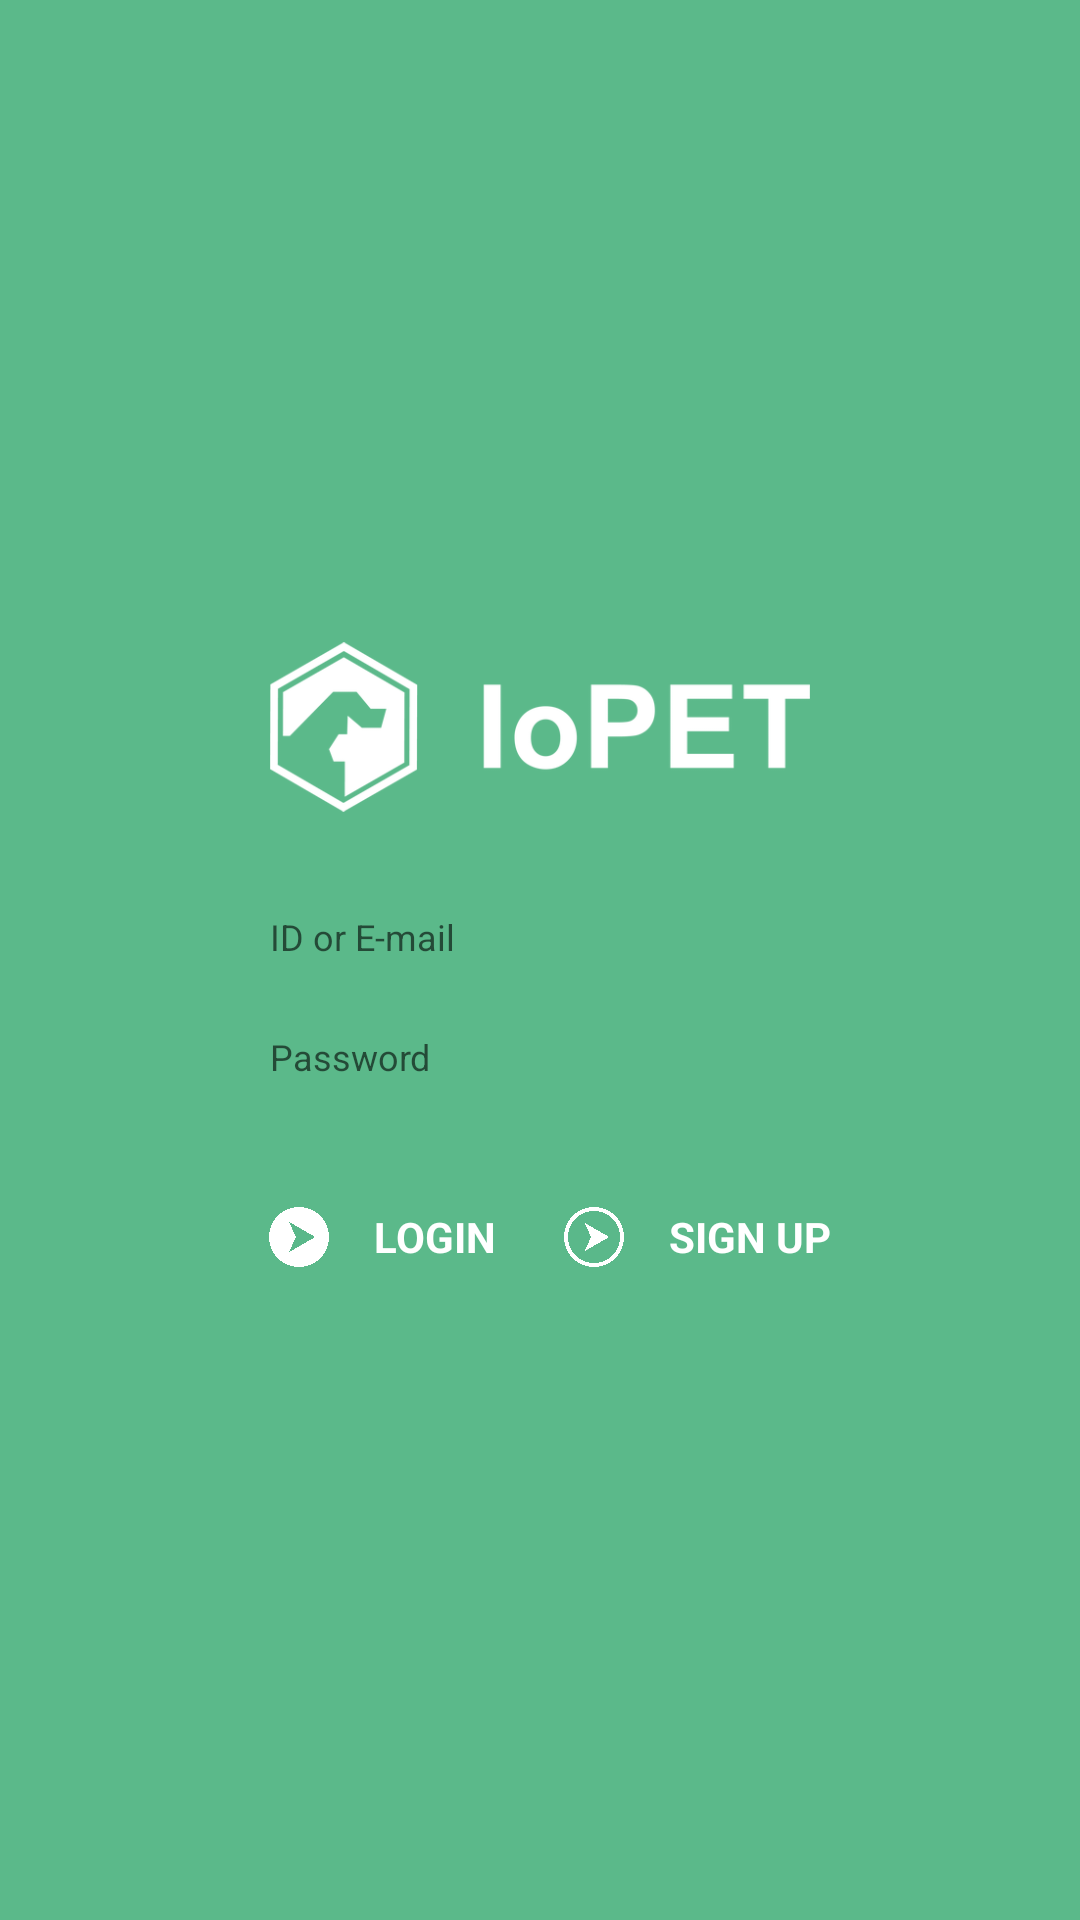

Where to tap for icons on this 1080px×1920px app screen, as point (x, y):
join: point (594, 1237)
